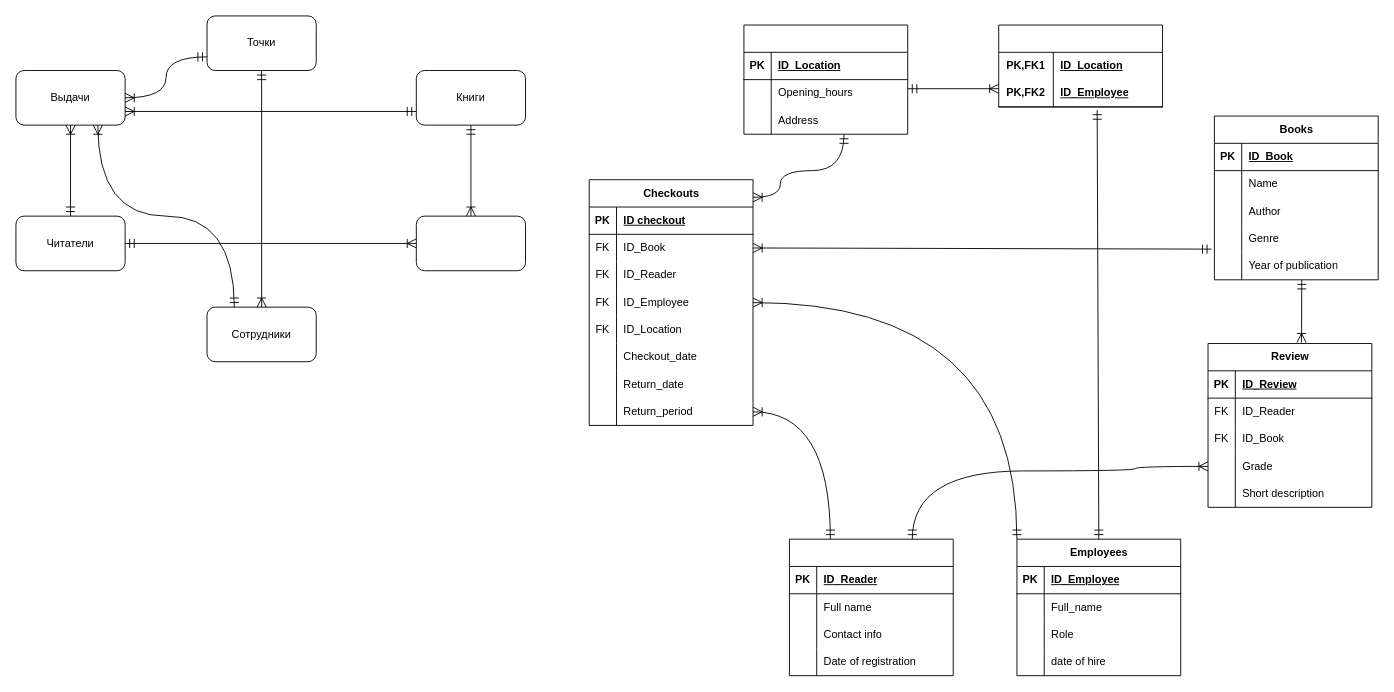
Image size: 1394x692. Some labels were removed from this diagram. Here are the shapes that lost their labels. From the top down, the box of each, then its label:
(743, 24, 908, 134): Locations
(998, 24, 1163, 107): Location_X_Employee
(415, 215, 526, 271): Отзывы
(789, 538, 953, 676): Readers
